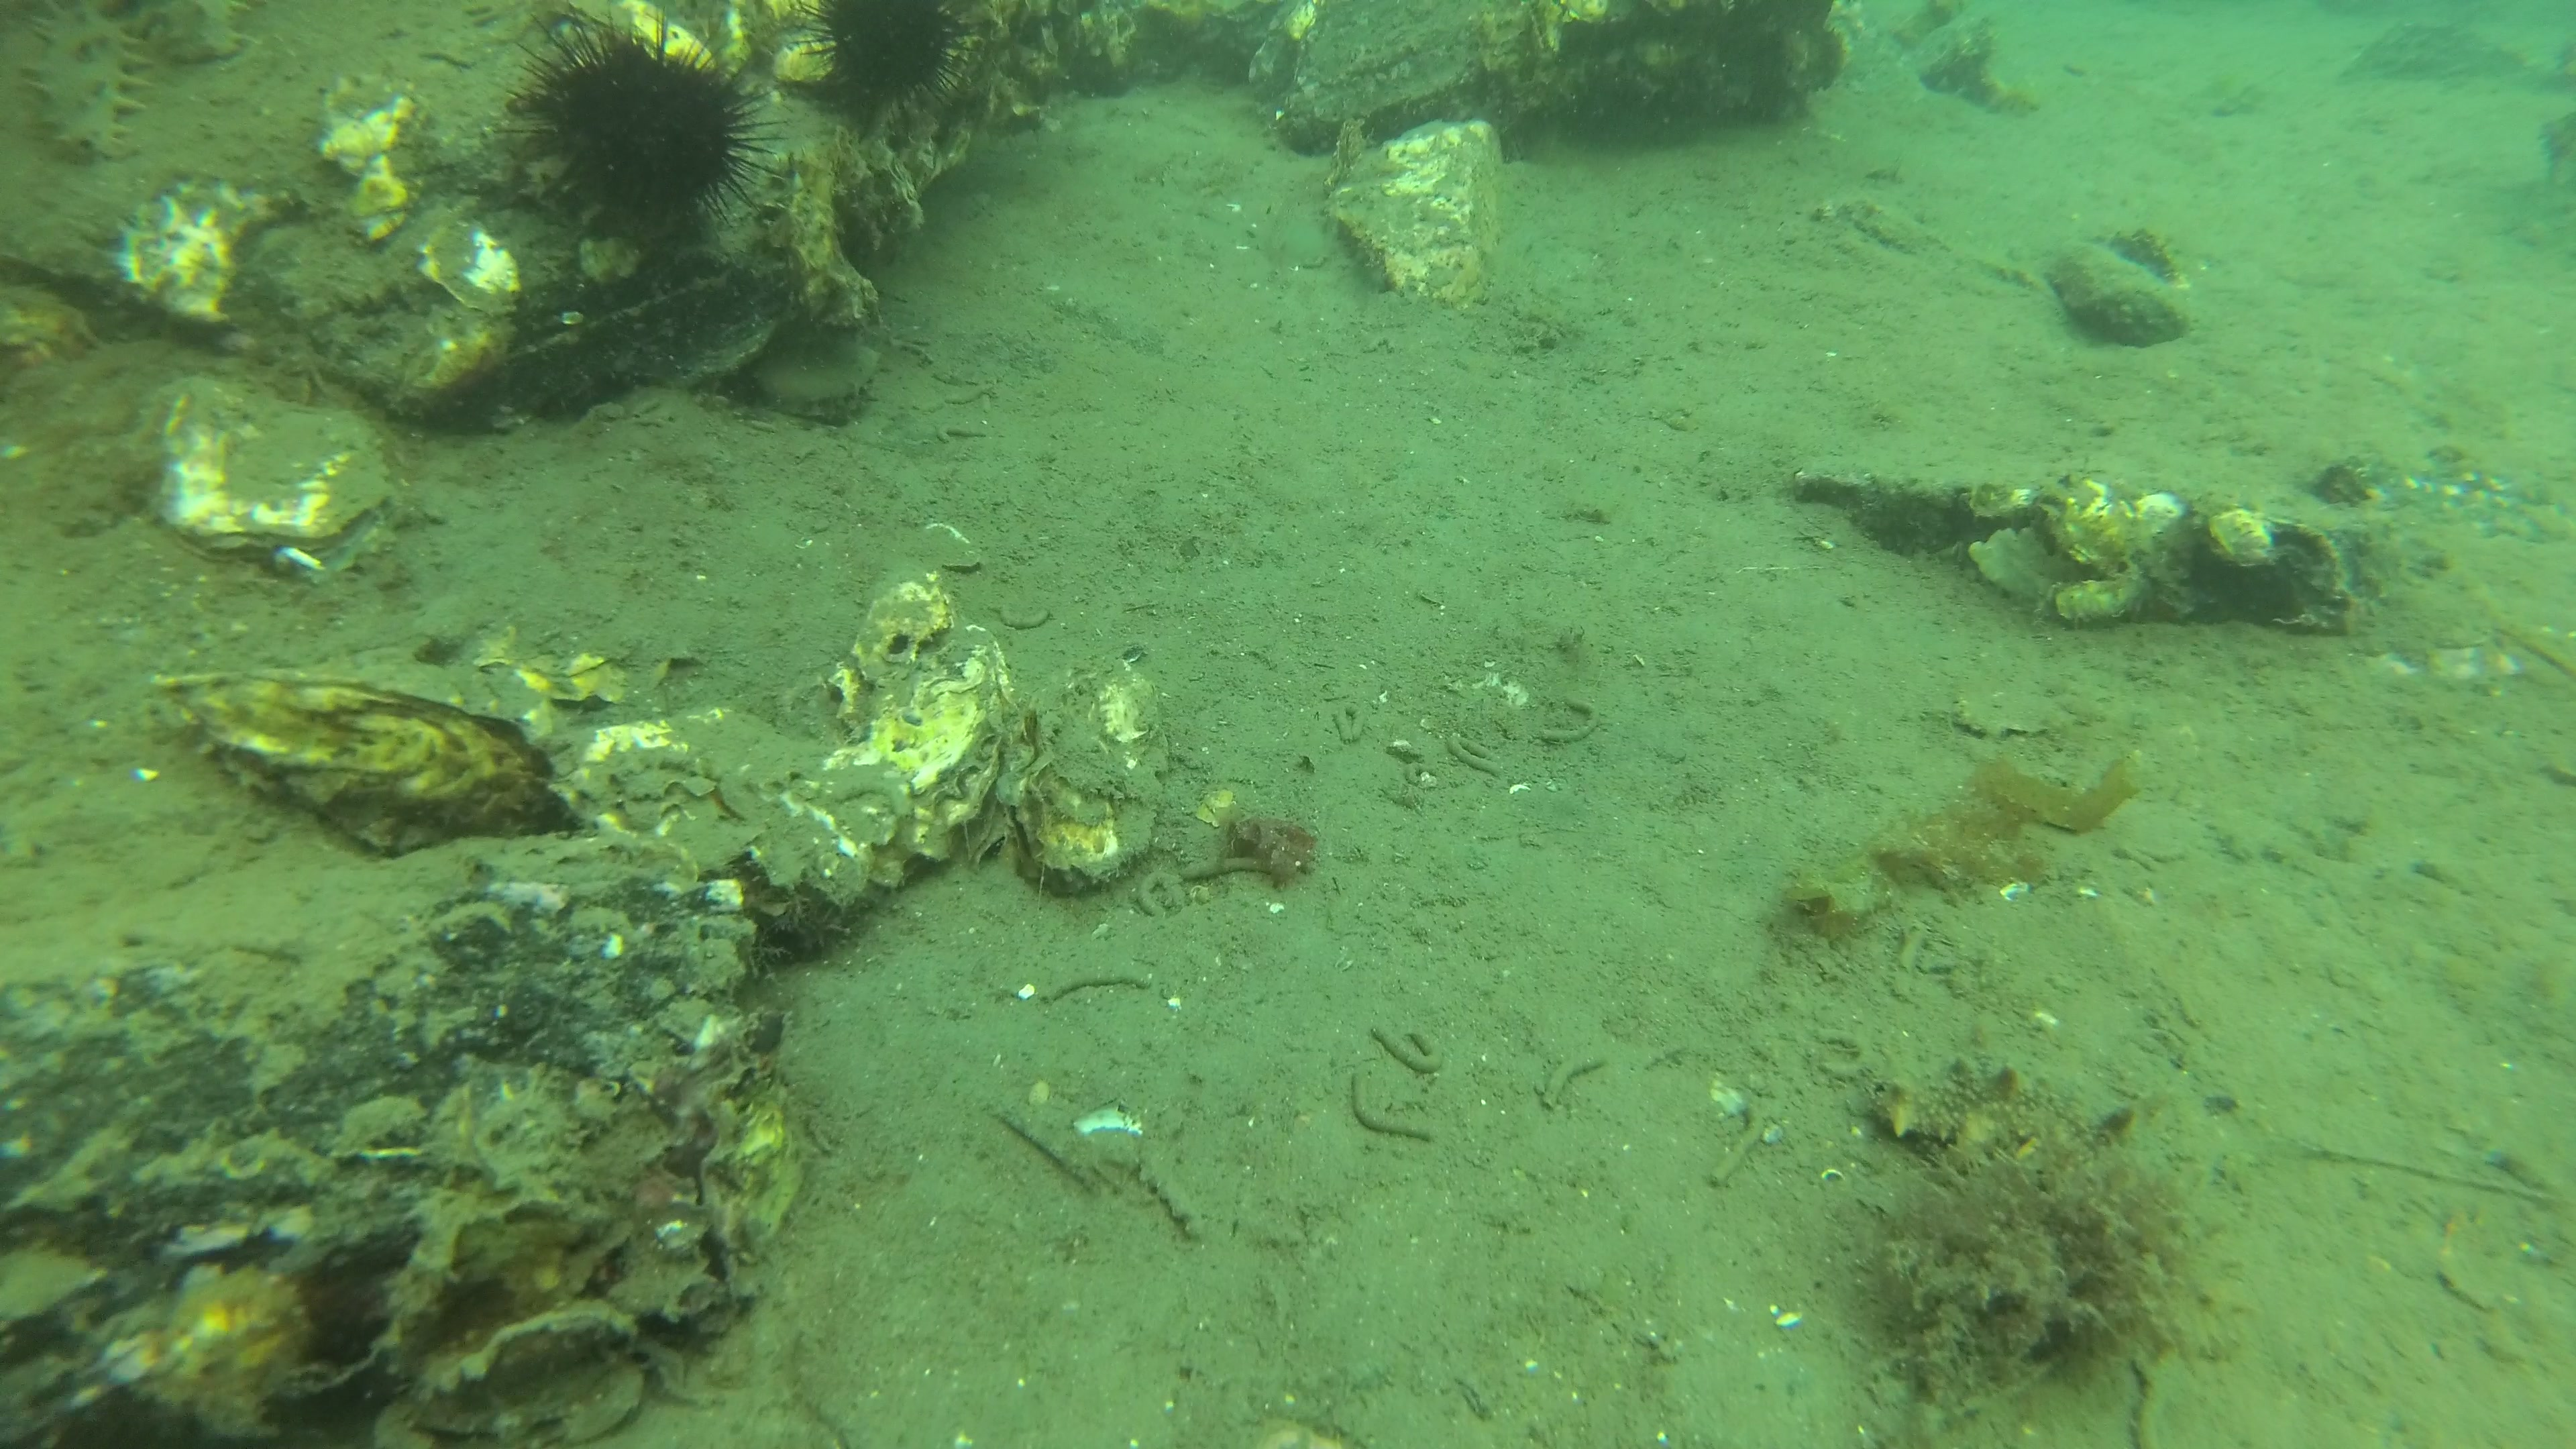echinus: (506, 4, 778, 228), (789, 0, 985, 122)
